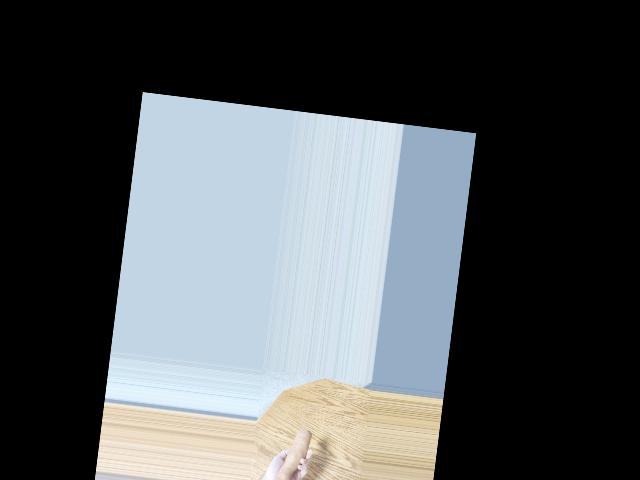sweet_potato: (266, 424, 313, 480)
